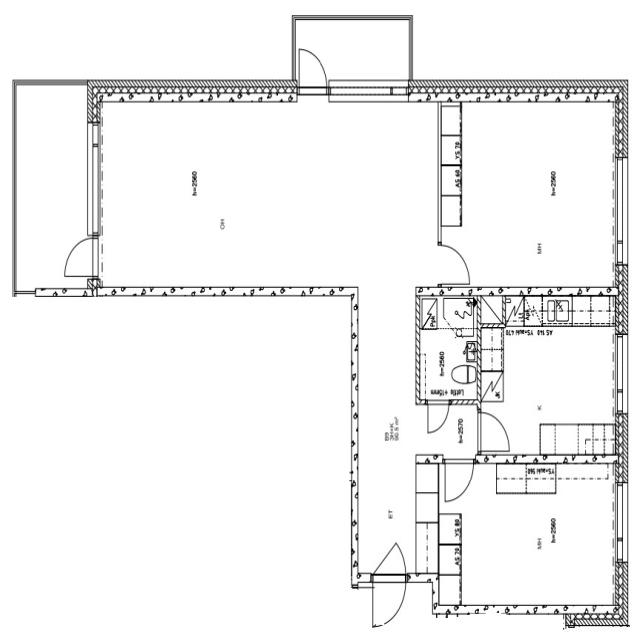door: (431, 237, 476, 292), (474, 402, 514, 459), (294, 43, 330, 100), (60, 232, 100, 282), (443, 458, 475, 504), (423, 399, 451, 439)
window: (85, 122, 108, 241), (608, 152, 631, 258), (327, 80, 409, 106), (609, 330, 630, 410), (610, 476, 630, 558), (27, 284, 86, 301)
zone: (442, 102, 622, 297), (435, 465, 624, 610), (485, 322, 621, 463), (14, 85, 96, 288), (419, 294, 481, 403), (61, 231, 100, 282)
